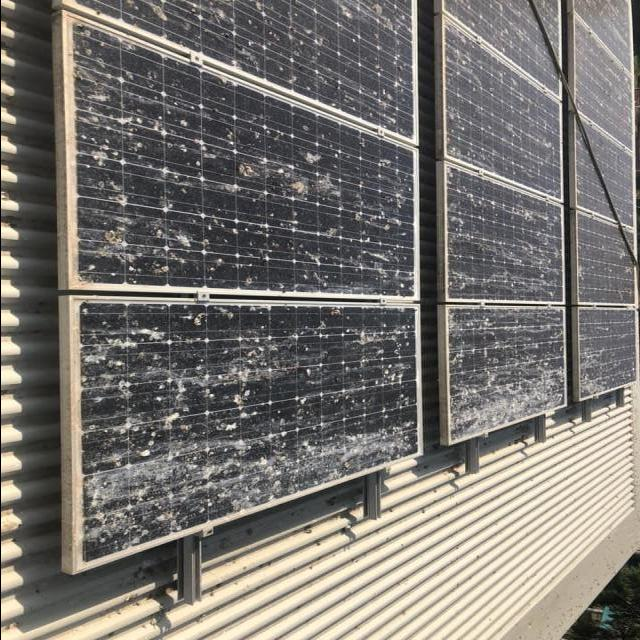soiled: (61, 1, 418, 575), (442, 1, 561, 450), (576, 1, 635, 407)
